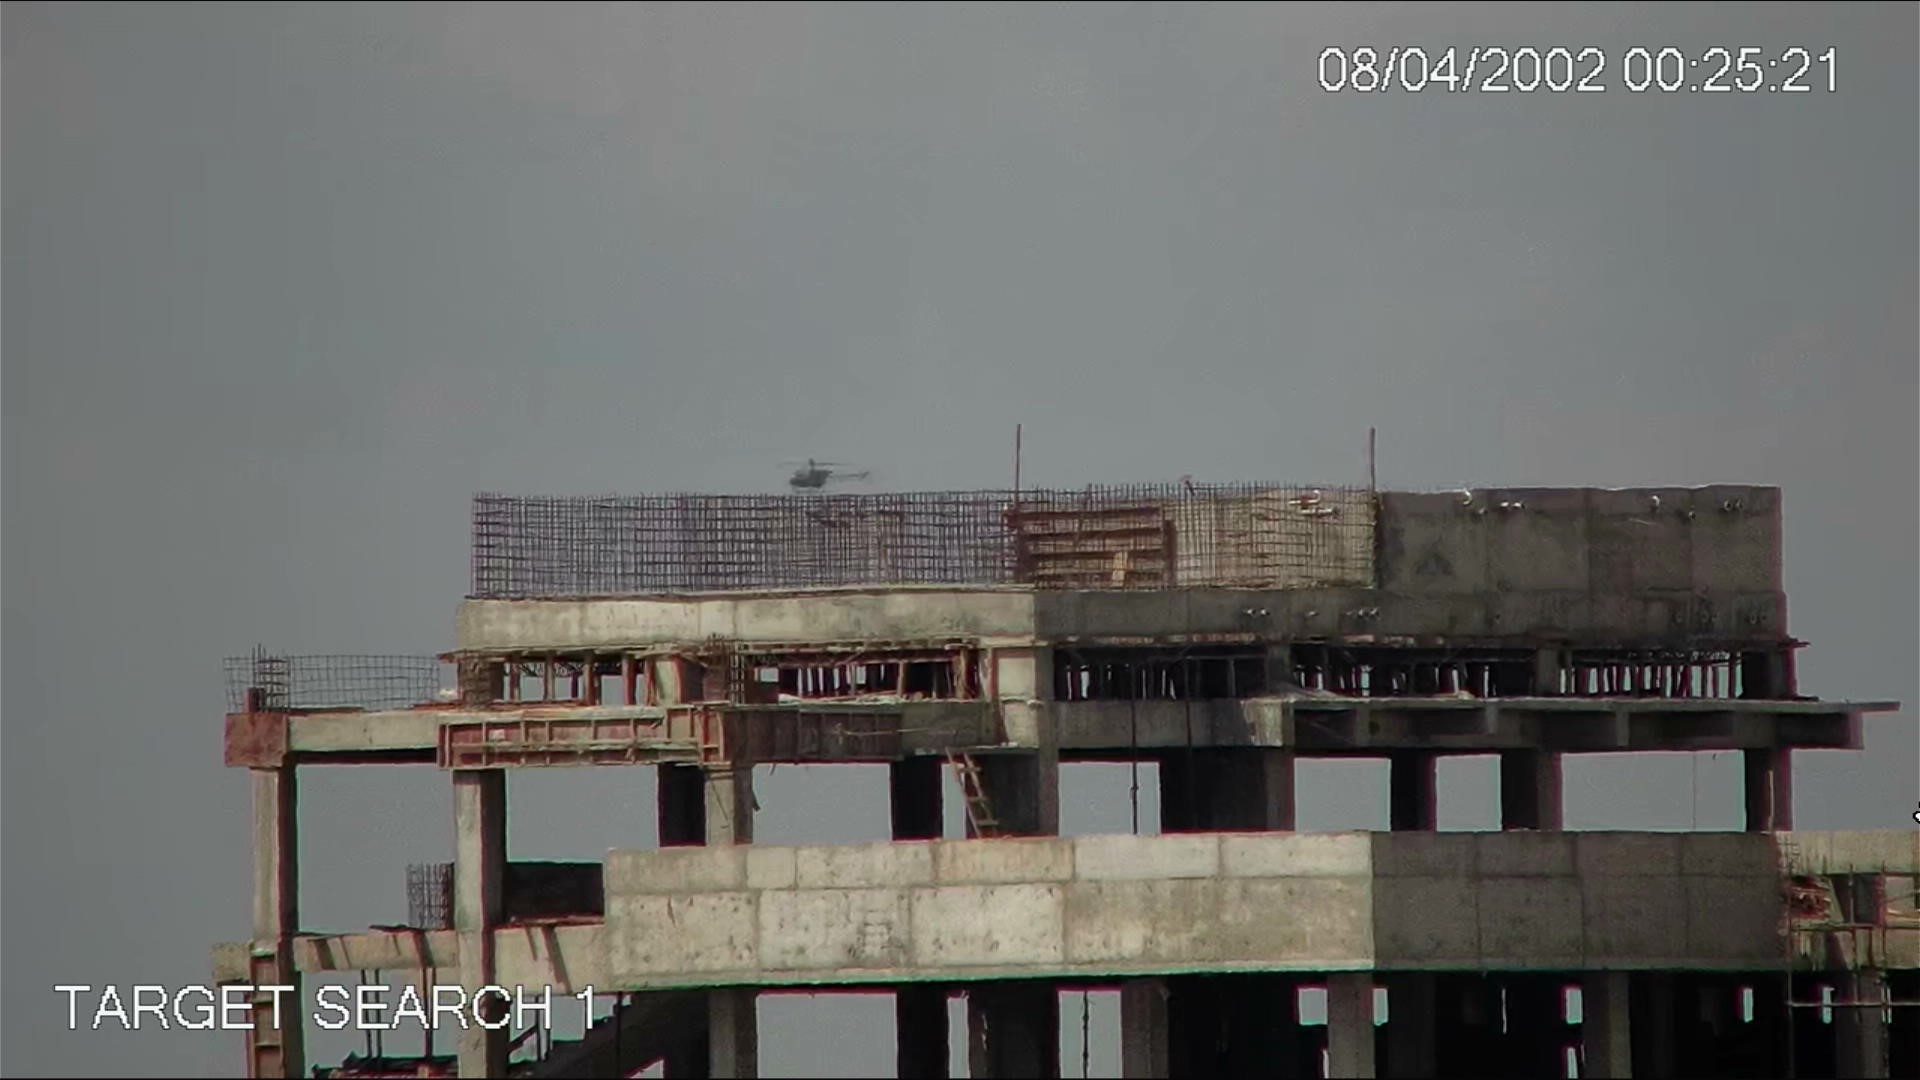SU_30: (773, 450, 876, 489)
